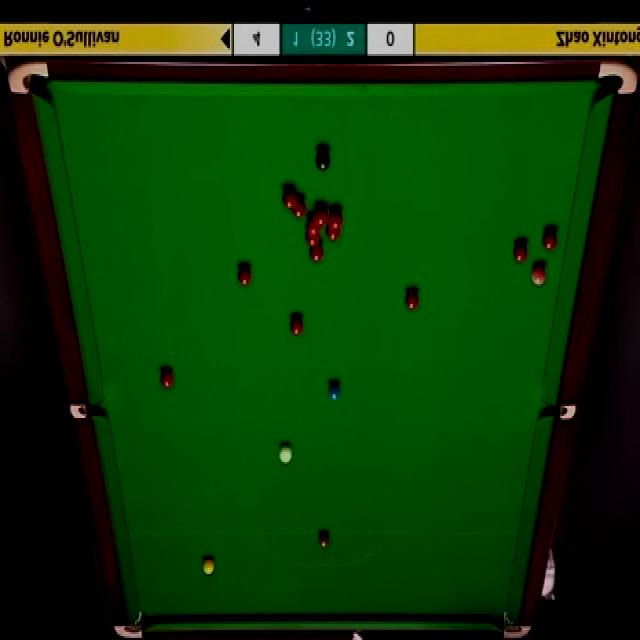pocket: (598, 55, 640, 100), (5, 61, 48, 95), (112, 609, 145, 640), (499, 608, 530, 640), (540, 400, 576, 422), (68, 403, 100, 422)
